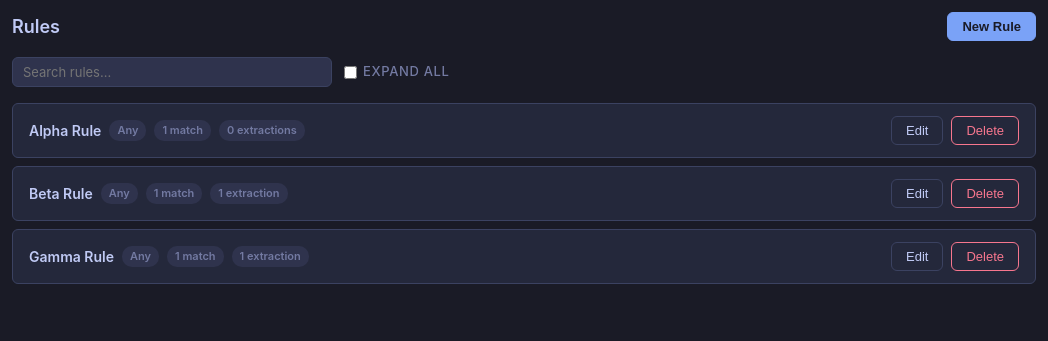
Test: RuleList search and expand-all › filters rules by extraction rule state_key
The width and height of the screenshot is (1048, 341).
Expected: the text "Gamma Rule" is shown, [29,246,114,267]
Type "gamma_key" into the search field with placeholder "Search rules..." at point(172, 72), box [12,57,332,87]
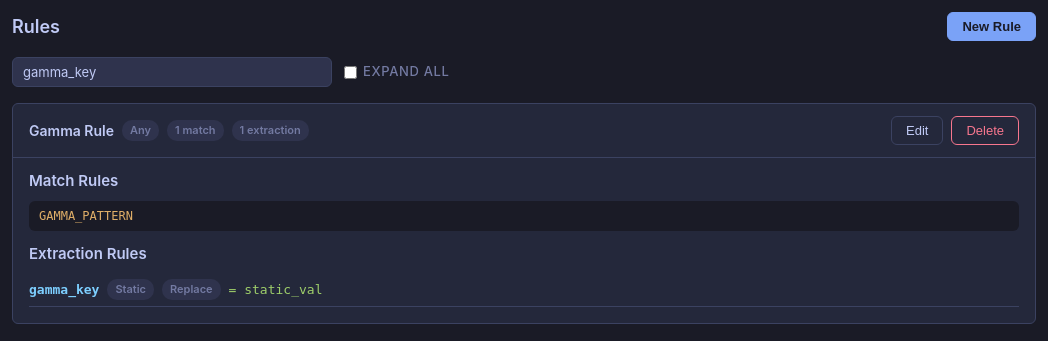
Expected: the button "Alpha Rule" is gone
Expected: the button "Beta Rule" is gone
Expected: the text "Gamma Rule" is shown, [29,120,114,141]
